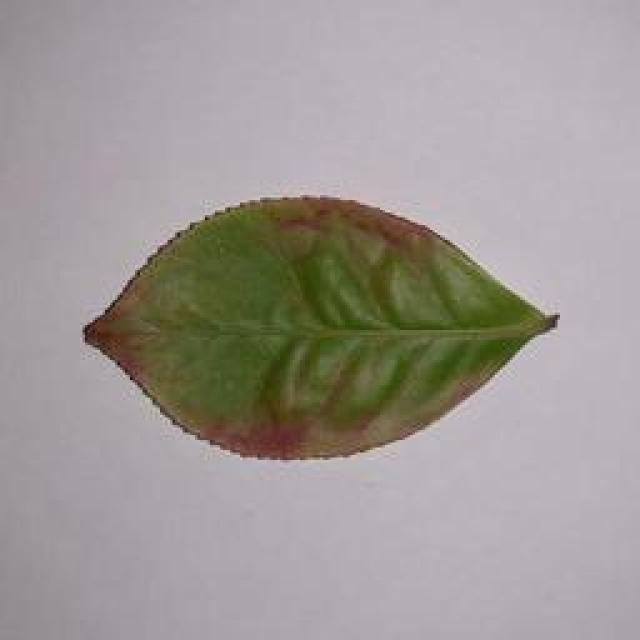Red Leaf Spot: (82, 185, 562, 472)
